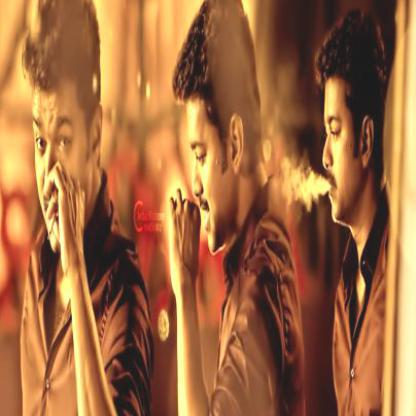cigarette: (46, 211, 57, 243)
person: (166, 0, 308, 415), (16, 0, 146, 415), (314, 16, 396, 415)
smoke: (284, 158, 330, 209)
